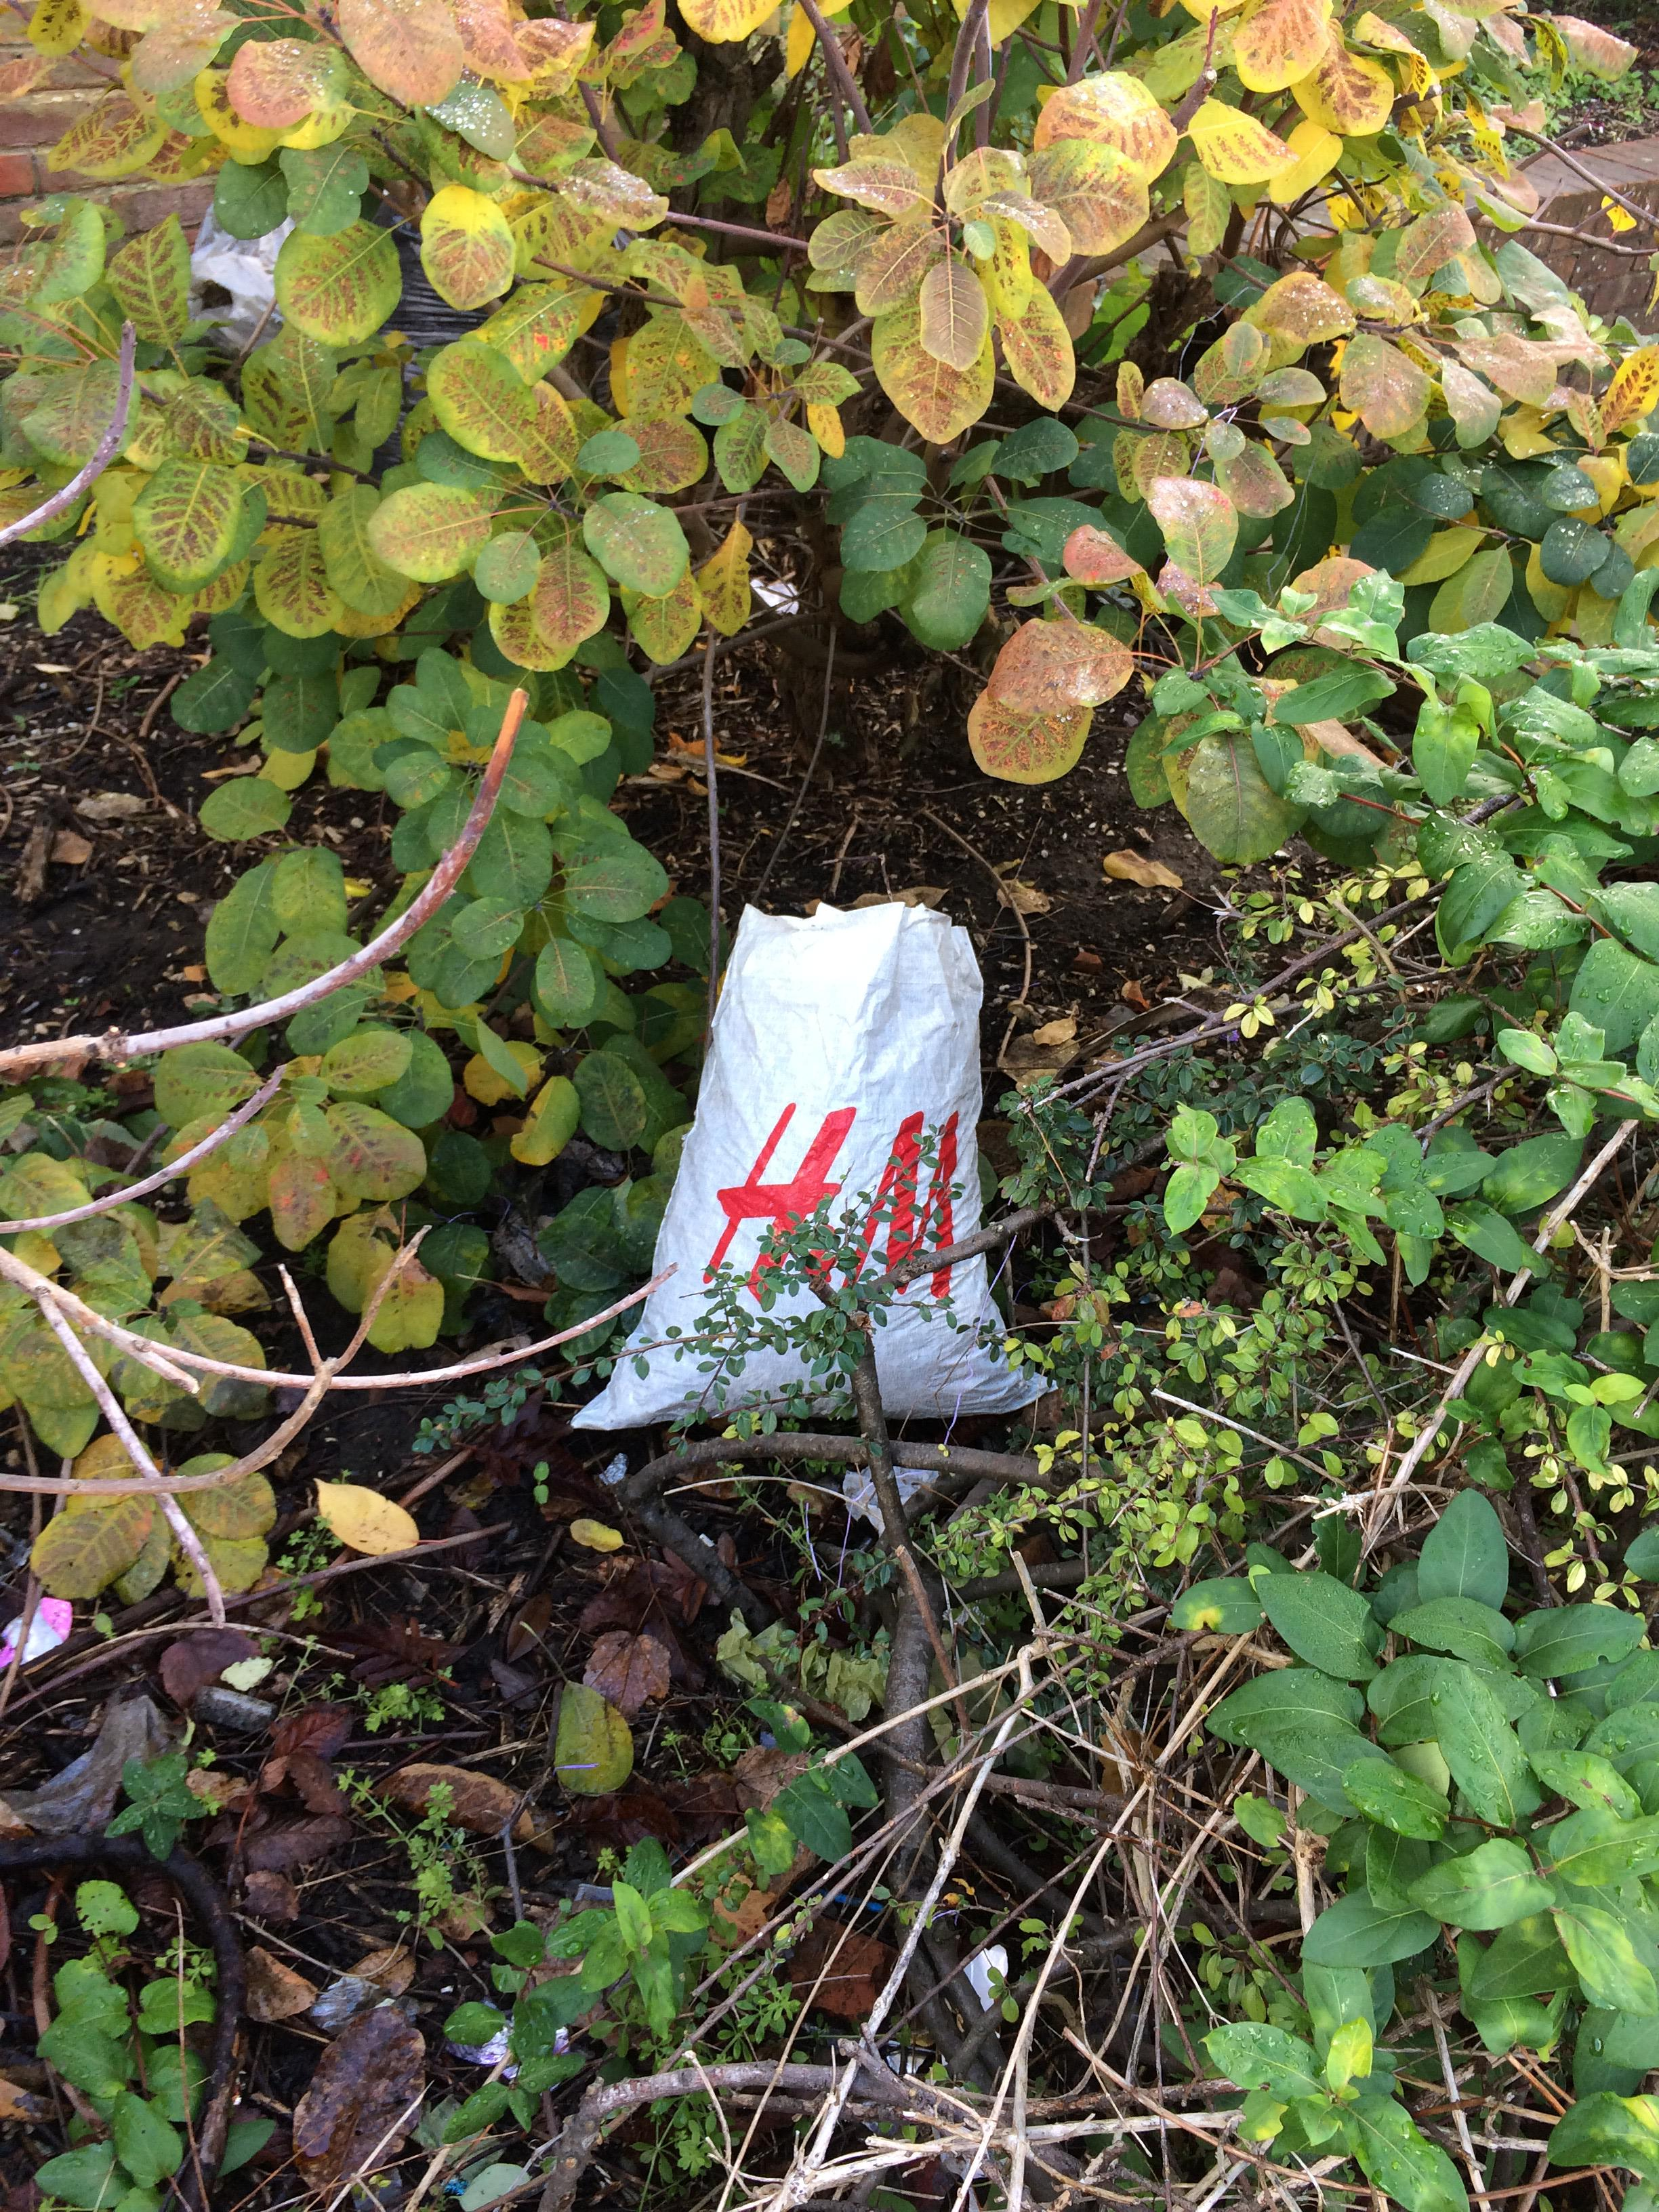Trash: (568, 874, 1061, 1442)
